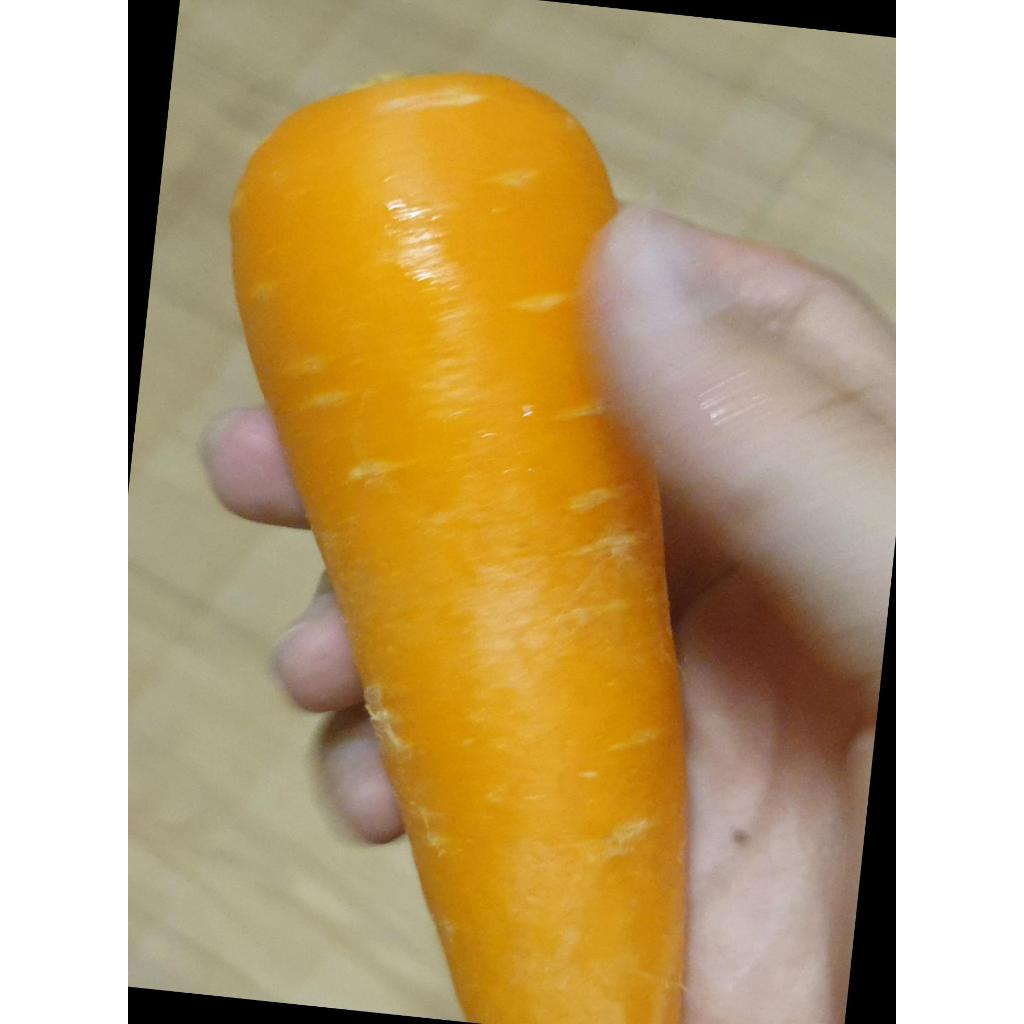carrot: (232, 74, 686, 1024)
